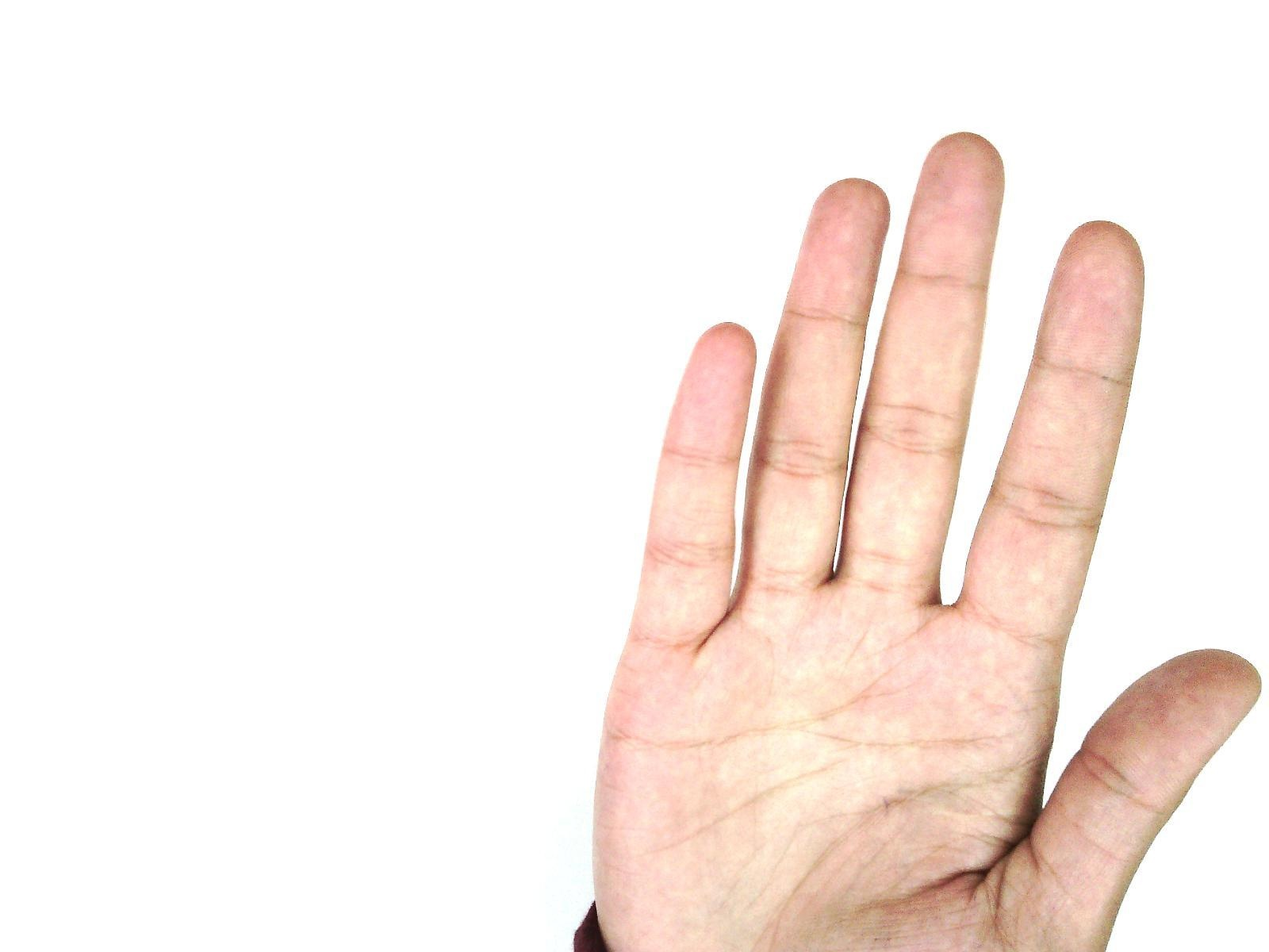open_palm: (580, 131, 1263, 951)
